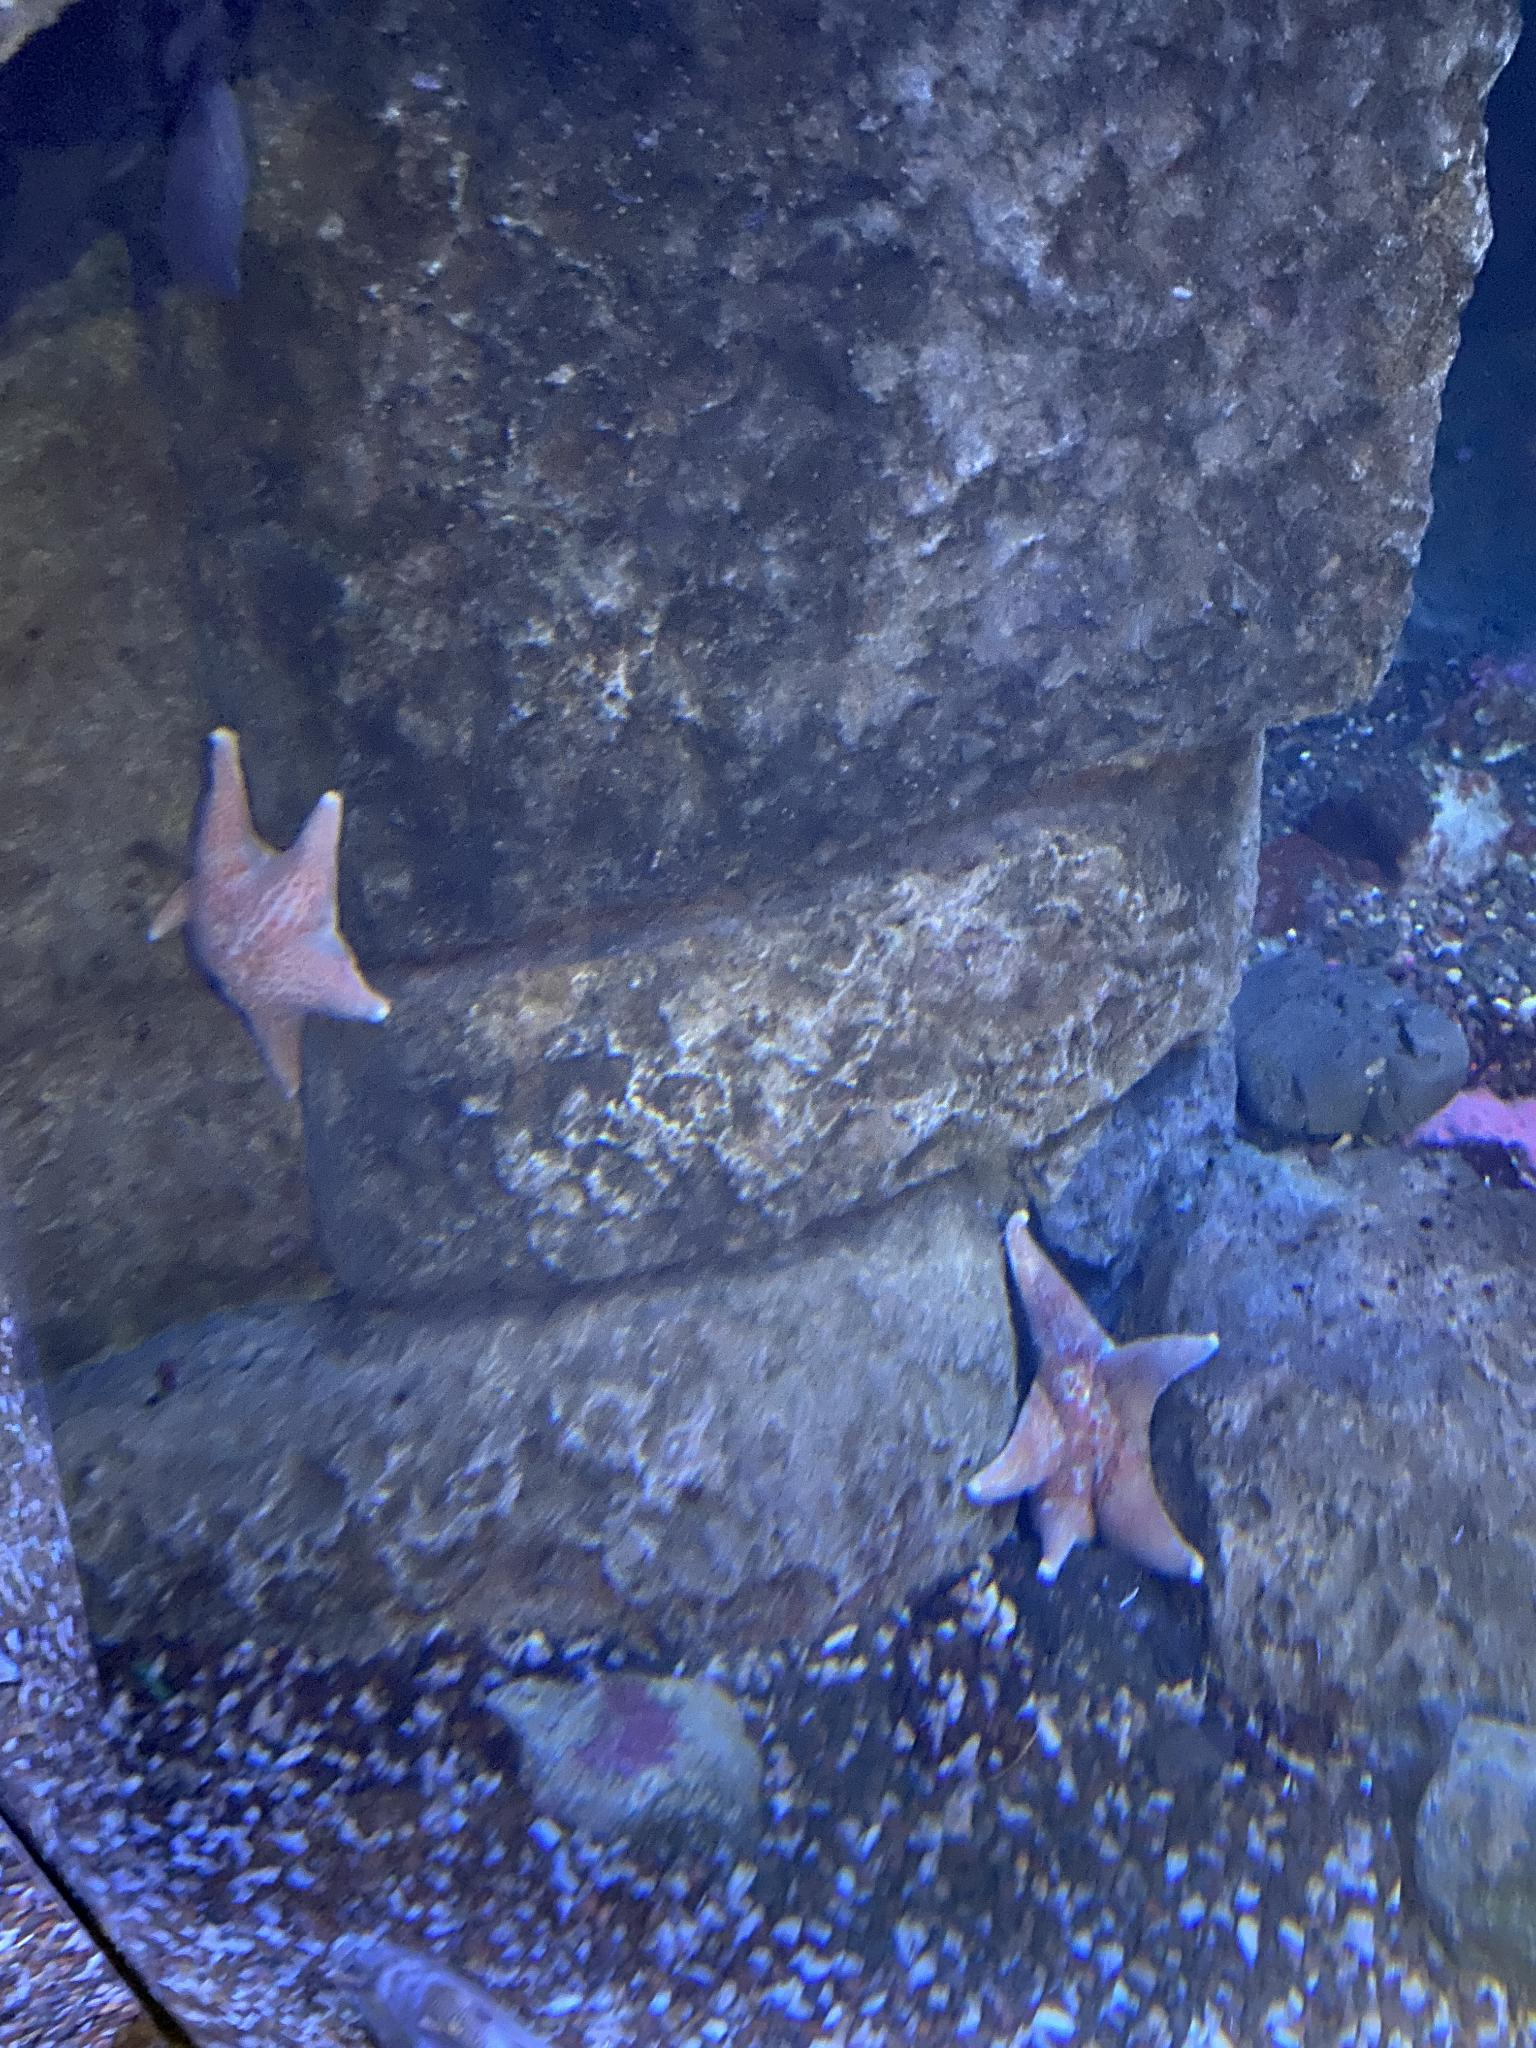starfish: (968, 1213, 1220, 1585), (145, 729, 392, 1108)
